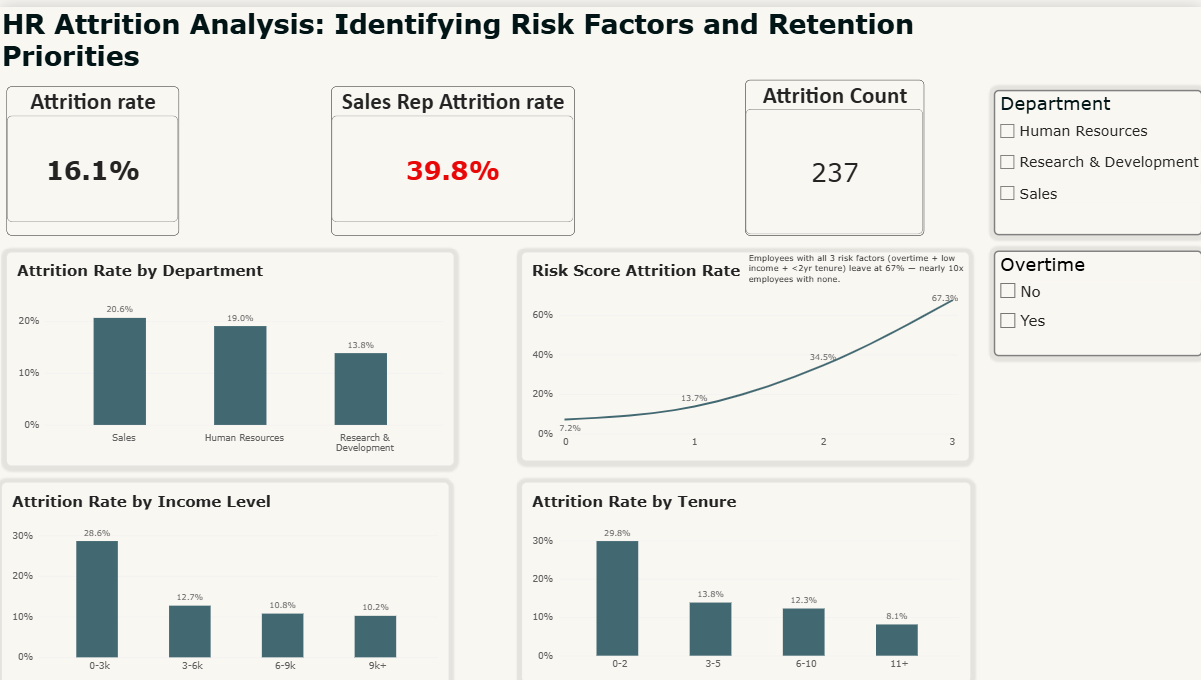

The dashboard page shown, as its layout file describes it:
{"tool":"powerbi","page":{"name":"Dashboard","canvas":[1920,1080],"ordinal":0},"visuals":[{"type":"cardVisual","title":"Attrition rate","fields":{"Data":["HRData.Attrition Rate"]},"box":[10.6,126.9,275,238],"z":0},{"type":"cardVisual","title":"Sales Rep Attrition rate","fields":{"Data":["HRData.Sales_Rep Attrition"]},"box":[528.9,126.9,388.7,238],"z":1000},{"type":"slicer","fields":{"Values":["HRData.department"]},"box":[1586.7,132.2,333.2,232.7],"z":2000},{"type":"clusteredColumnChart","title":"Attrition Rate by Department","fields":{"Category":["HRData.department"],"Y":["HRData.Attrition Rate"]},"box":[10.6,391.4,714,341.1],"z":3000},{"type":"lineChart","title":"Risk Score Attrition Rate","fields":{"Category":["HRData.risk_score"],"Y":["HRData.Attrition Rate"]},"box":[833,391.4,714,333.2],"z":4000},{"type":"slicer","title":"Overtime","fields":{"Values":["HRData.overtime"]},"box":[1586.7,388.7,333.2,169.2],"z":5000},{"type":"clusteredColumnChart","title":"Attrition Rate by Income Level","fields":{"Category":["HRData.IncomeLevel"],"Y":["HRData.Attrition Rate"]},"box":[2.6,759,714,322.6],"z":6000},{"type":"columnChart","title":"Attrition Rate by Tenure","fields":{"Category":["HRData.TenureGroup"],"Y":["HRData.Attrition Rate"]},"box":[833,759,716.7,320],"z":7000},{"type":"cardVisual","title":"Attrition Count","fields":{"Data":["Sum(HRData.attrition_flag)"]},"box":[1190,116.4,285.6,248.6],"z":8000},{"type":"textbox","box":[1195,391.7,355,53.3],"z":9000},{"type":"textbox","box":[2.6,0,1618.4,116.4],"z":9001}]}

Visuals, with their boxes in screenshot pixels (x1, y1, x2, y2), scaled from the page's 1920x1080 canvas onto the 1201x680 screenshot:
"Attrition rate" cardVisual: crop(7, 80, 179, 230)
"Sales Rep Attrition rate" cardVisual: crop(331, 80, 574, 230)
slicer - HRData.department: crop(993, 83, 1200, 230)
"Attrition Rate by Department" clusteredColumnChart: crop(7, 246, 453, 461)
"Risk Score Attrition Rate" lineChart: crop(521, 246, 968, 456)
"Overtime" slicer: crop(993, 245, 1200, 351)
"Attrition Rate by Income Level" clusteredColumnChart: crop(2, 478, 448, 679)
"Attrition Rate by Tenure" columnChart: crop(521, 478, 969, 679)
"Attrition Count" cardVisual: crop(744, 73, 923, 230)
textbox: crop(747, 247, 970, 280)
textbox: crop(2, 0, 1014, 73)
